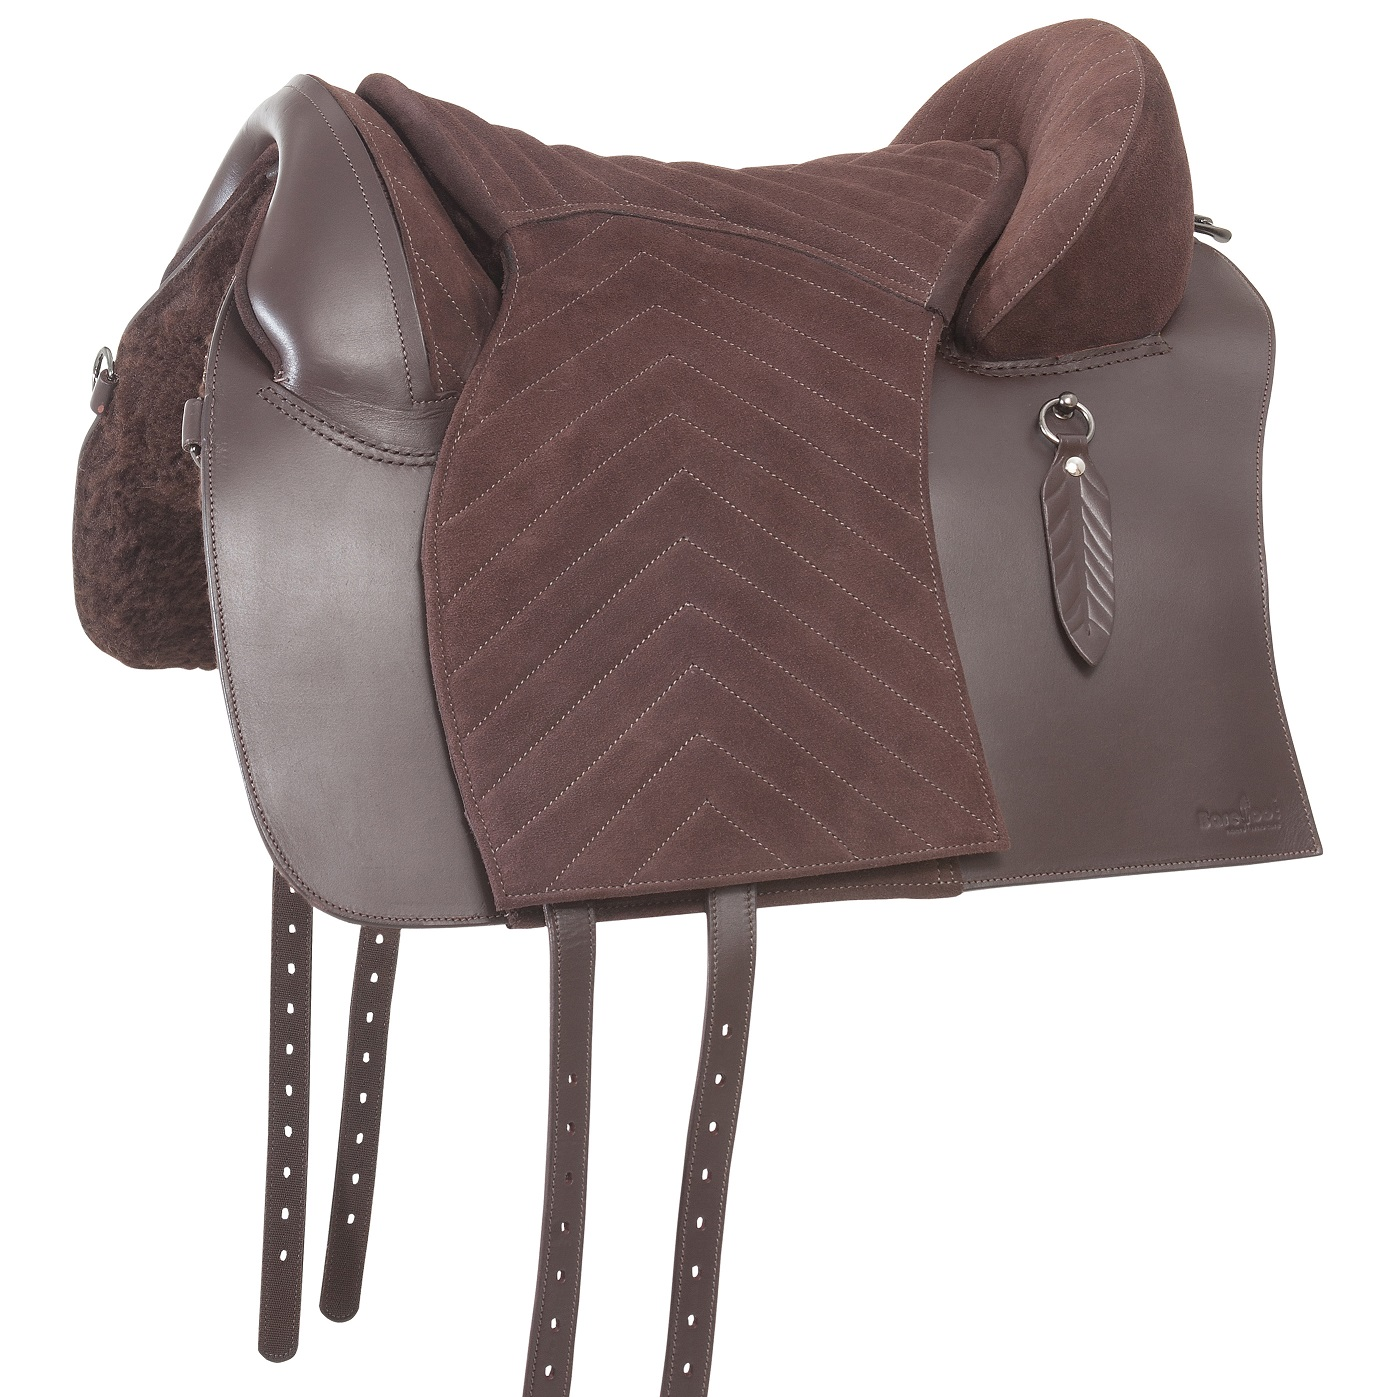saddle: (52, 41, 1367, 1021)
